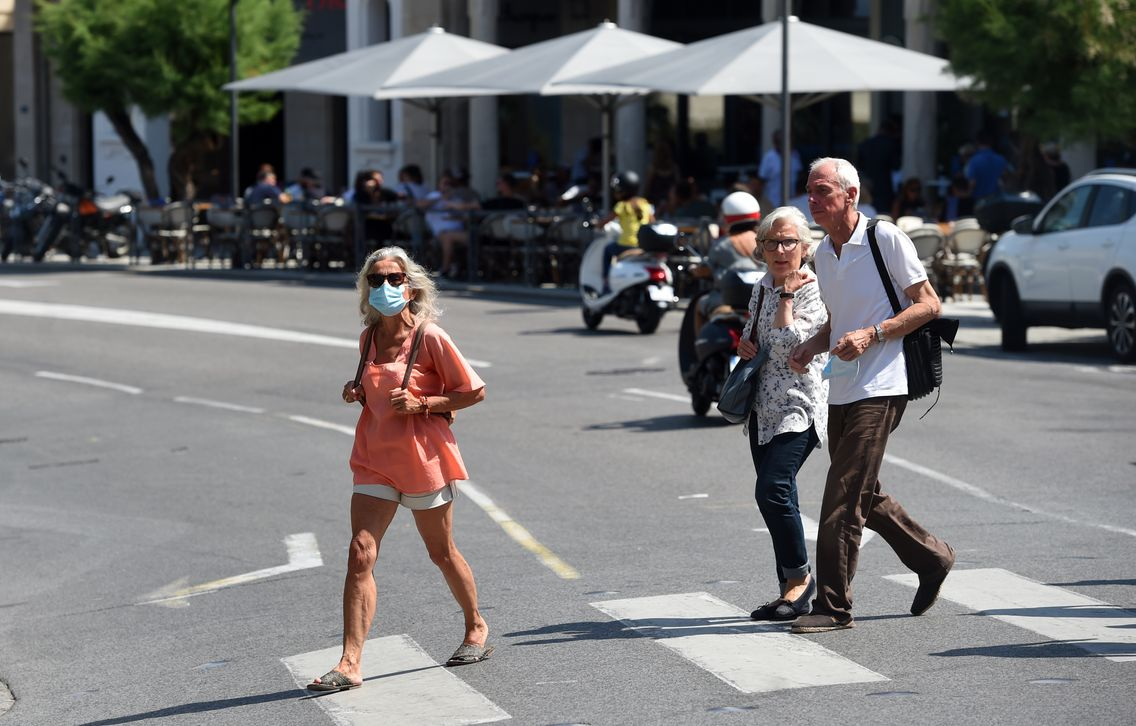with_mask: (366, 268, 407, 313)
without_mask: (807, 177, 845, 225), (763, 233, 803, 275)
